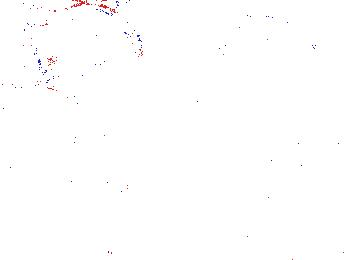moon jellyfish: (38, 3, 144, 74), (207, 16, 315, 78), (1, 22, 57, 89), (106, 28, 193, 70)
